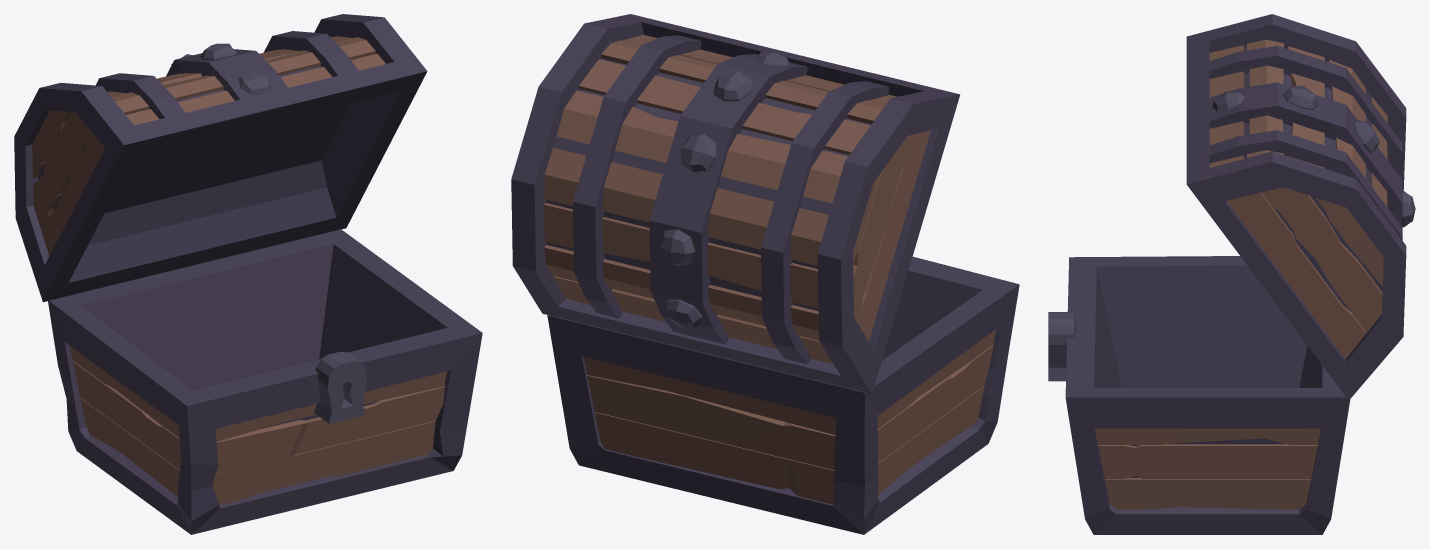
Rendered from chest_open.glb.
3 renders of one model, left to right at view 1: azimuth 30°, elevation 25°; view 2: azimuth 150°, elevation 25°; view 3: azimuth 270°, elevation 25°, orthographic. The views are drawn at different scales.
Parts seen in each view (by area): view 1: Chest_Open; view 2: Chest_Open; view 3: Chest_Open.
Part boxes in pixels (x1,y1,x2,y2): Chest_Open: (14, 14, 482, 534); Chest_Open: (511, 14, 1019, 534); Chest_Open: (1048, 14, 1415, 534).
Bounding box in the file's own units: 0.9496 × 1.15 × 0.9962.
